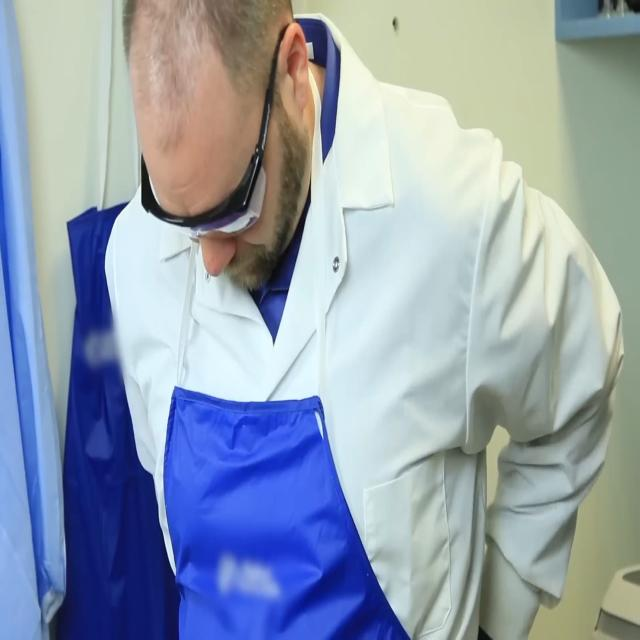googles: (128, 123, 278, 245)
labcoat: (102, 6, 628, 640), (0, 0, 70, 640)
